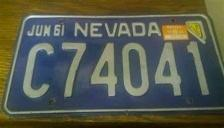0: (119, 40, 150, 99)
4: (152, 41, 185, 98), (89, 41, 120, 98)
7: (183, 40, 216, 97), (58, 40, 88, 101)
C: (21, 40, 56, 99)
